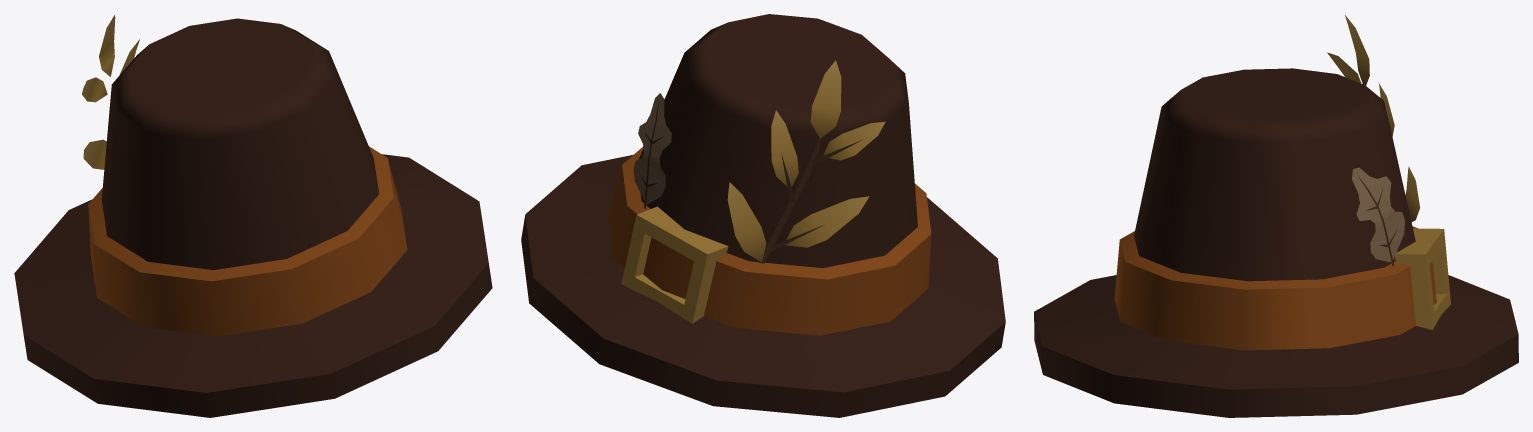
File: hat_fallhat.glb
The picture shows the model from 3 angles, left to right: view 1: azimuth 30°, elevation 25°; view 2: azimuth 150°, elevation 25°; view 3: azimuth 270°, elevation 25°; orthographic projection.
Visible parts, largest first — view 1: hat_fallhat; view 2: hat_fallhat; view 3: hat_fallhat.
Part boxes in pixels (<box>): hat_fallhat: <box>14,15,492,417</box>; hat_fallhat: <box>521,14,1005,417</box>; hat_fallhat: <box>1034,15,1518,417</box>.
Size of the model in its own units: 0.5074 by 0.3697 by 0.509.
